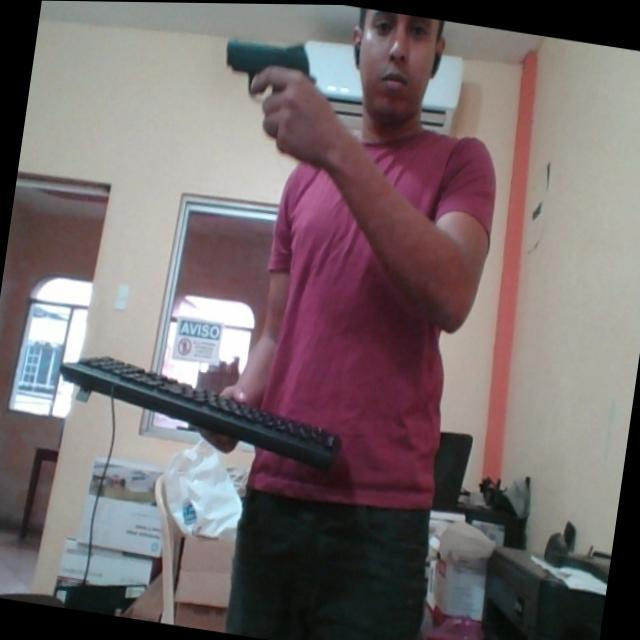weapon: (216, 27, 324, 109)
